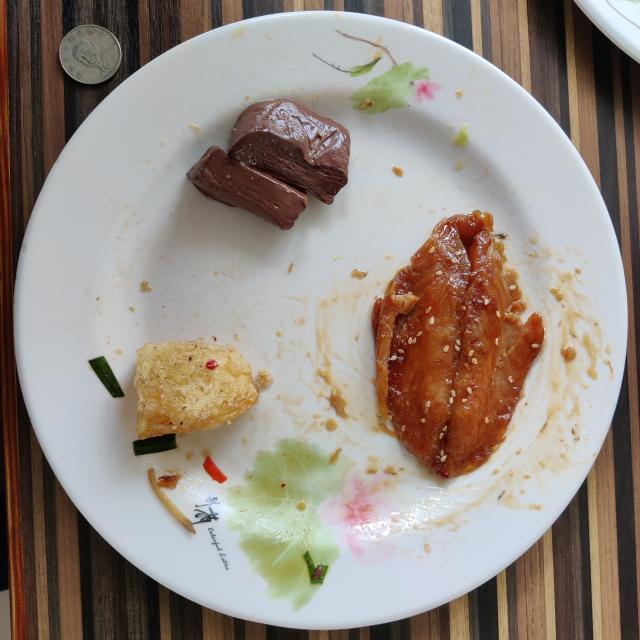Kabayaki sea bream fillet: (372, 210, 544, 479)
coin: (59, 25, 121, 84)
fried potato: (134, 341, 259, 440)
pig blood curd: (188, 99, 350, 230)
